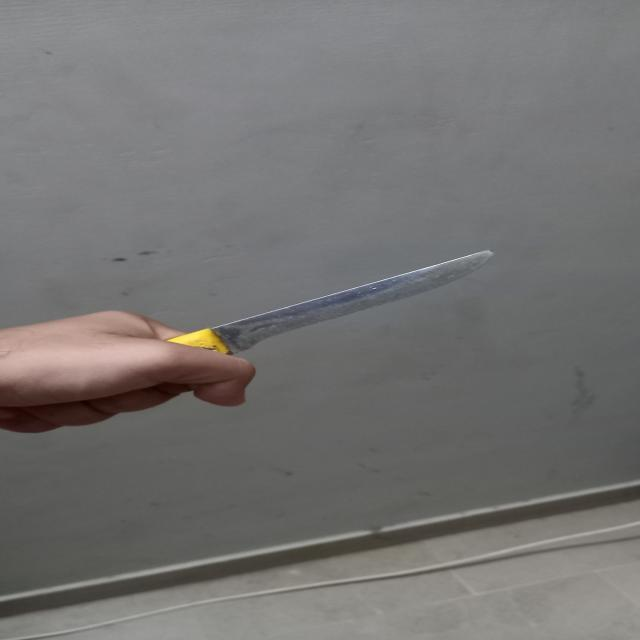weapon: (105, 244, 515, 410)
